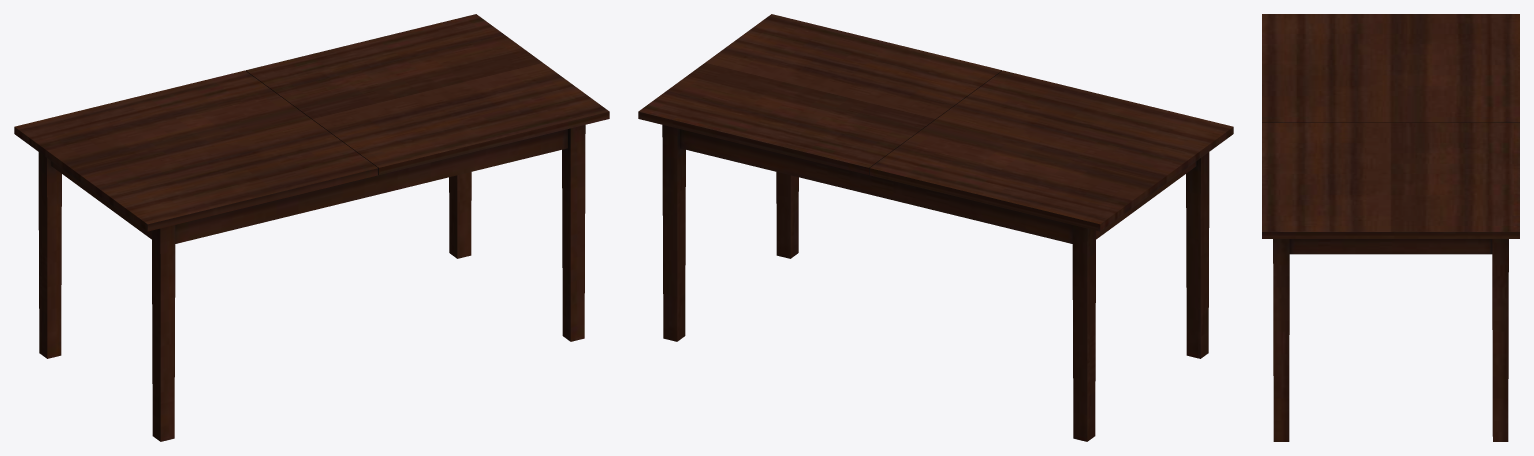
The model's file is table_extending_lod1_web.glb.
The picture shows the model from 3 angles, left to right: view 1: azimuth 30°, elevation 25°; view 2: azimuth 150°, elevation 25°; view 3: azimuth 270°, elevation 25°; orthographic projection. The views are drawn at different scales.
Visible parts, largest first — view 1: TableExtending_Mesh; view 2: TableExtending_Mesh; view 3: TableExtending_Mesh.
Boxes of the visible parts, <box> form: TableExtending_Mesh: <box>14,14,609,441</box>; TableExtending_Mesh: <box>638,14,1233,441</box>; TableExtending_Mesh: <box>1262,14,1519,441</box>.
Size of the model in its own units: 1.6 by 0.75 by 0.8.
1 material, 1 textured.
